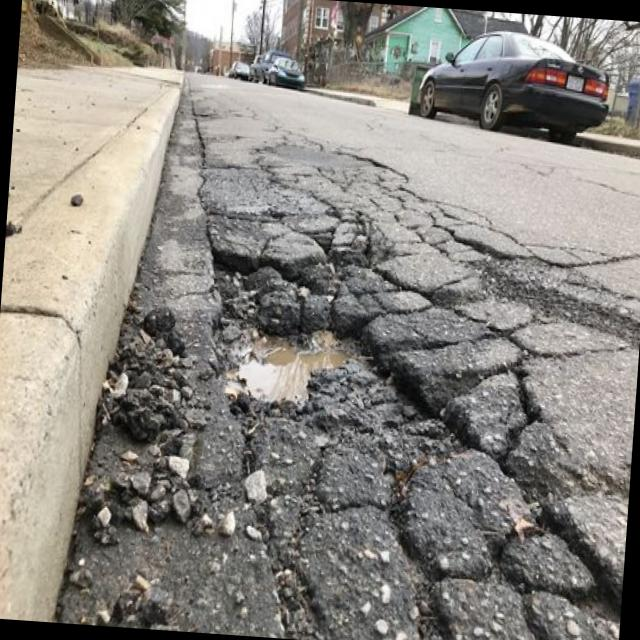Potholes: (67, 178, 575, 640)
